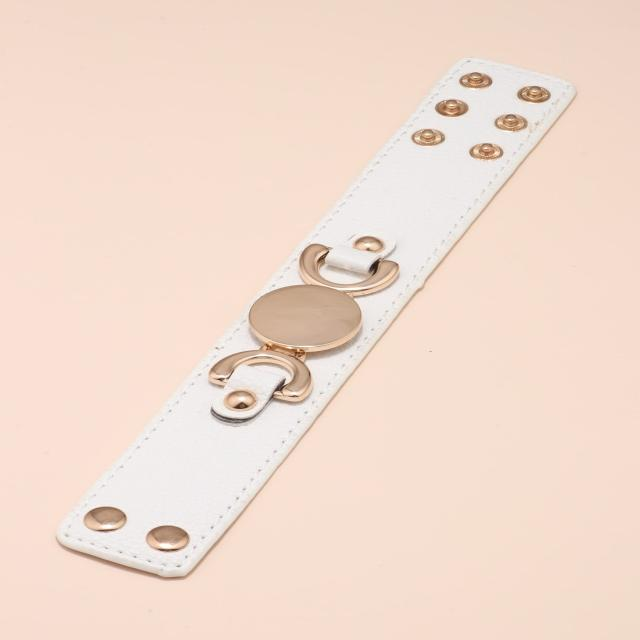bracelet: (15, 13, 606, 568)
